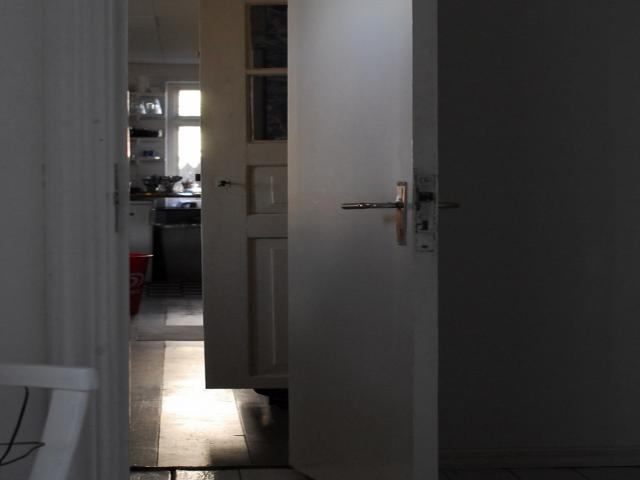Door-handle: (334, 181, 410, 250), (437, 199, 458, 210)
